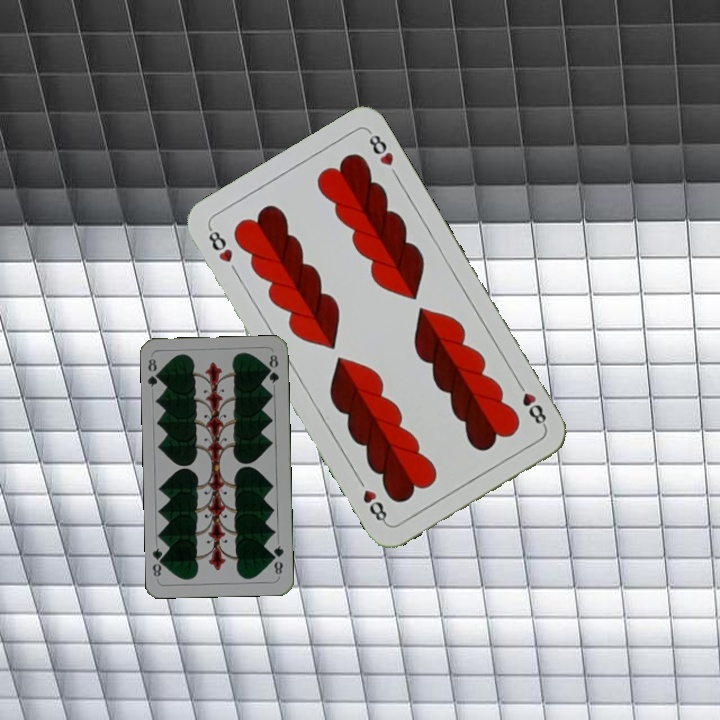G8: (144, 354, 163, 390), (269, 542, 286, 579)
H8: (512, 377, 549, 430), (204, 223, 236, 266)
